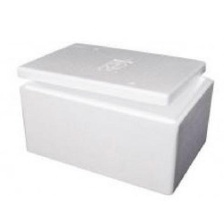foam_box: (11, 35, 220, 200)
